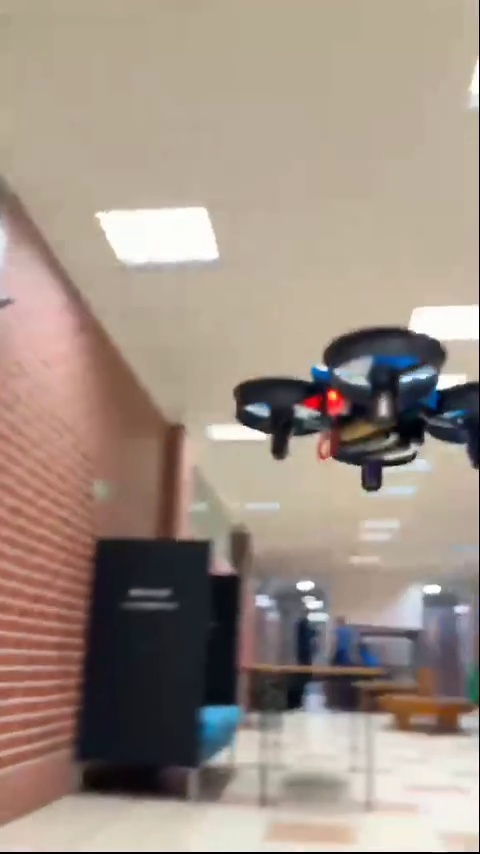drone: (236, 331, 480, 495)
no vest: (330, 611, 358, 668), (292, 618, 317, 666)
